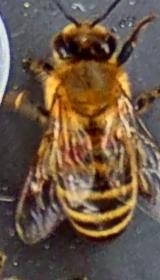varroa_mite: (48, 139, 83, 166)
